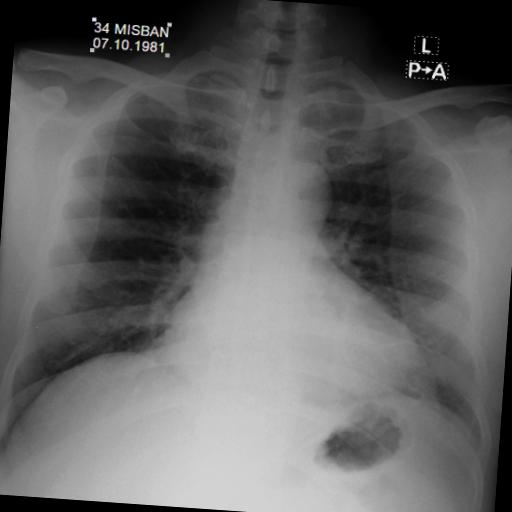kardiomegali: (0, 34, 512, 478)
